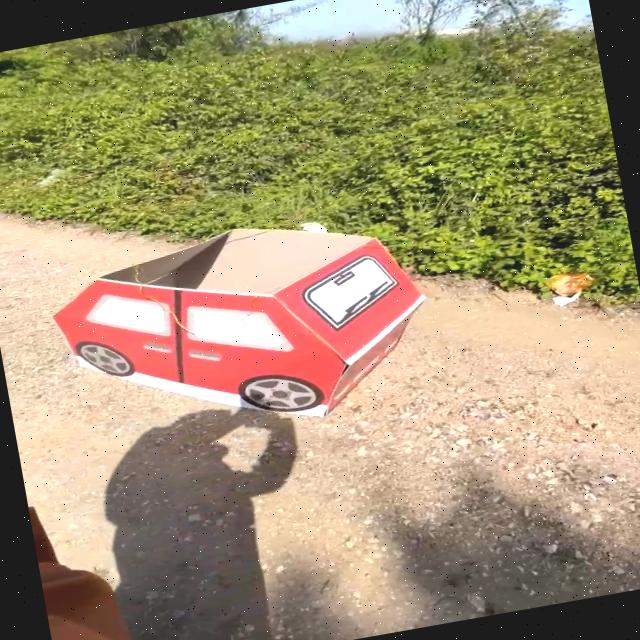red_car: (23, 191, 455, 468)
